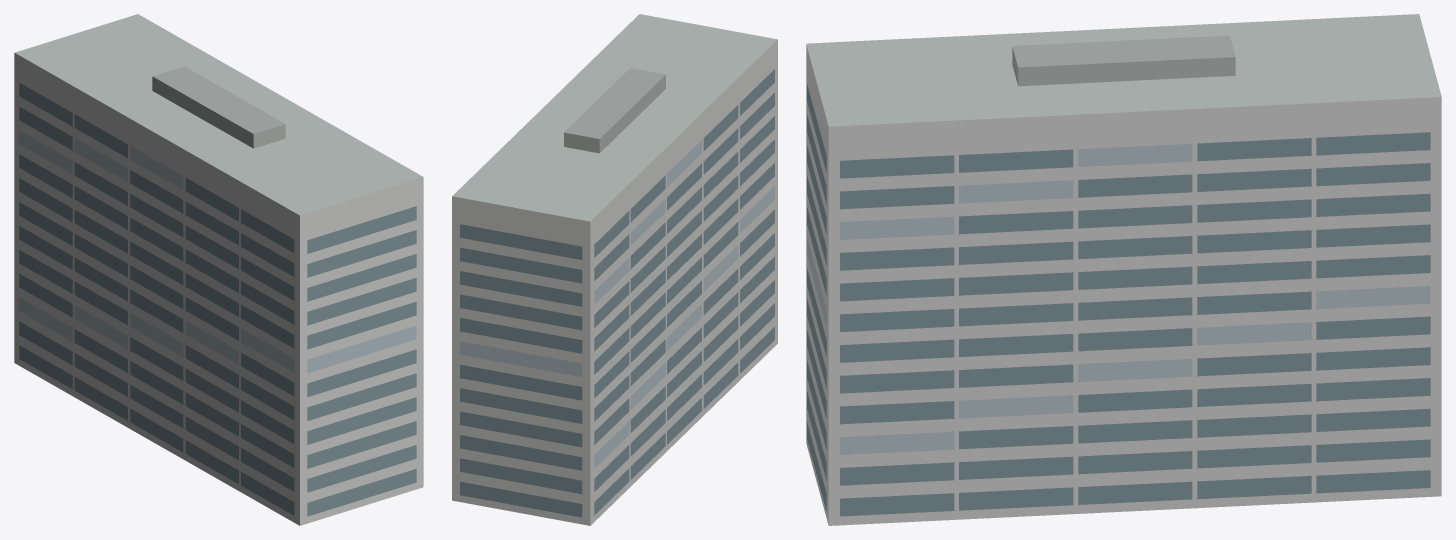
The model's file is apt-a13480906.glb.
3 views of the same model, side by side, from view 1: azimuth 30°, elevation 25°; view 2: azimuth 150°, elevation 25°; view 3: azimuth 270°, elevation 25° (orthographic). The views are drawn at different scales.
Visible parts, largest first — view 1: apt-a13480906; view 2: apt-a13480906; view 3: apt-a13480906.
Part boxes in pixels (x1,y1,x2,y2): apt-a13480906: (14, 14, 423, 525); apt-a13480906: (452, 14, 777, 525); apt-a13480906: (806, 14, 1441, 525).
Bounding box in the file's own units: 19.65 × 34 × 46.84.
